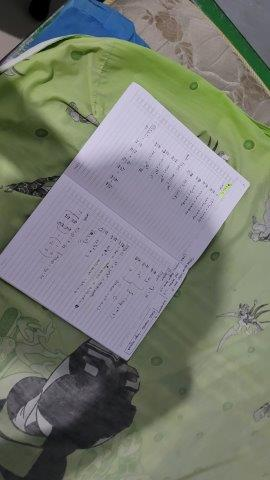kertas: (1, 80, 250, 362)
